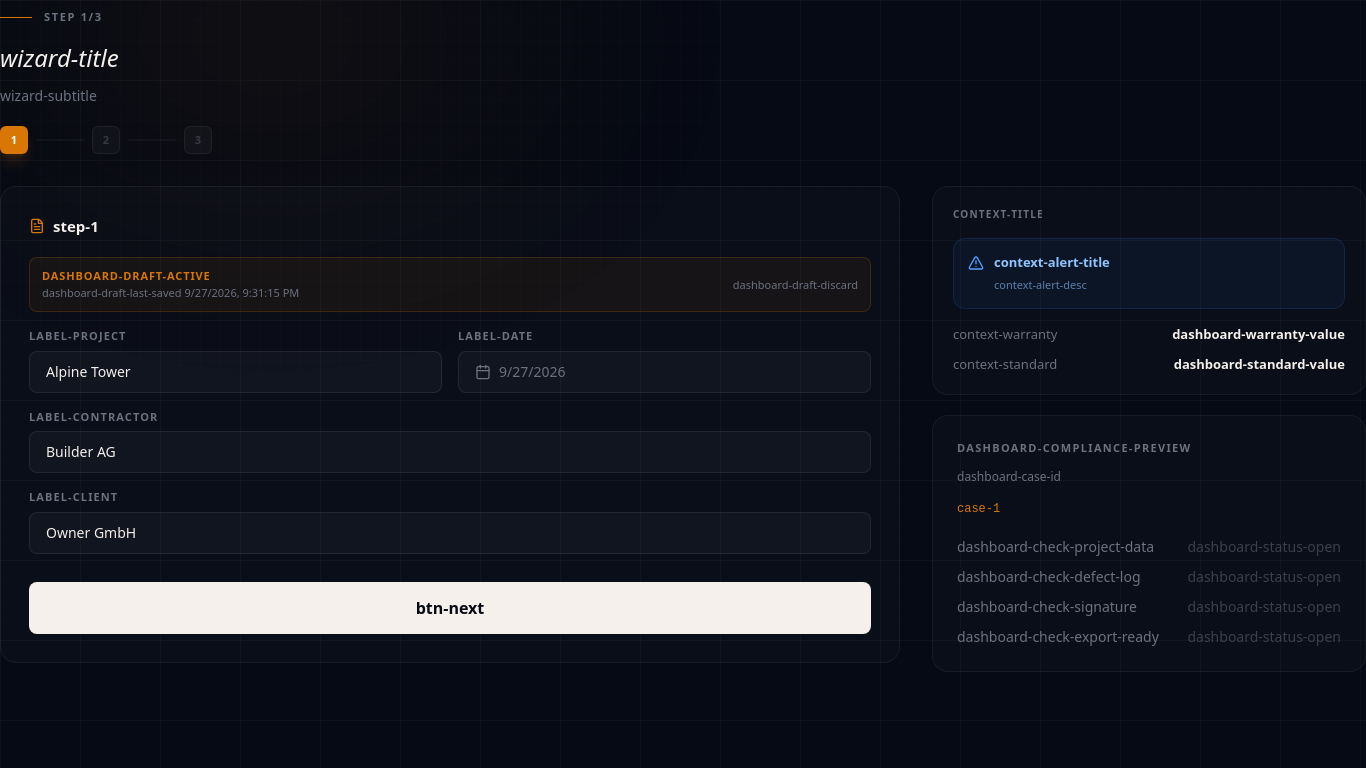
Test: dashboard linked-case loading retry › does not summarize an in-flight restored linked case as standalone
Click the button "btn-next".
click(450, 608)  # box [29, 582, 871, 634]
(page scrolled)
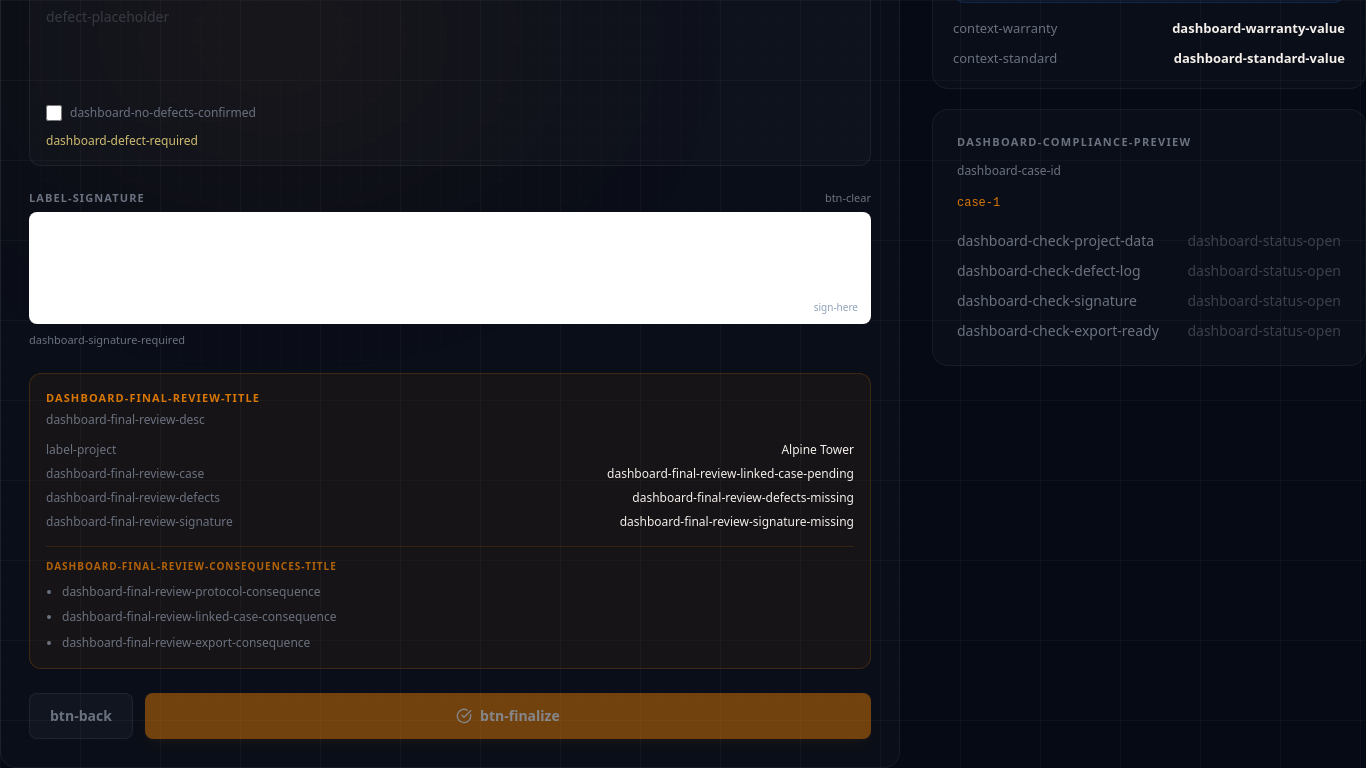
Expected: the text "dashboard-final-review-title" is shown, [46, 390, 260, 405]
Expected: the text "dashboard-final-review-linked-case-pending" is shown, [607, 466, 854, 482]
